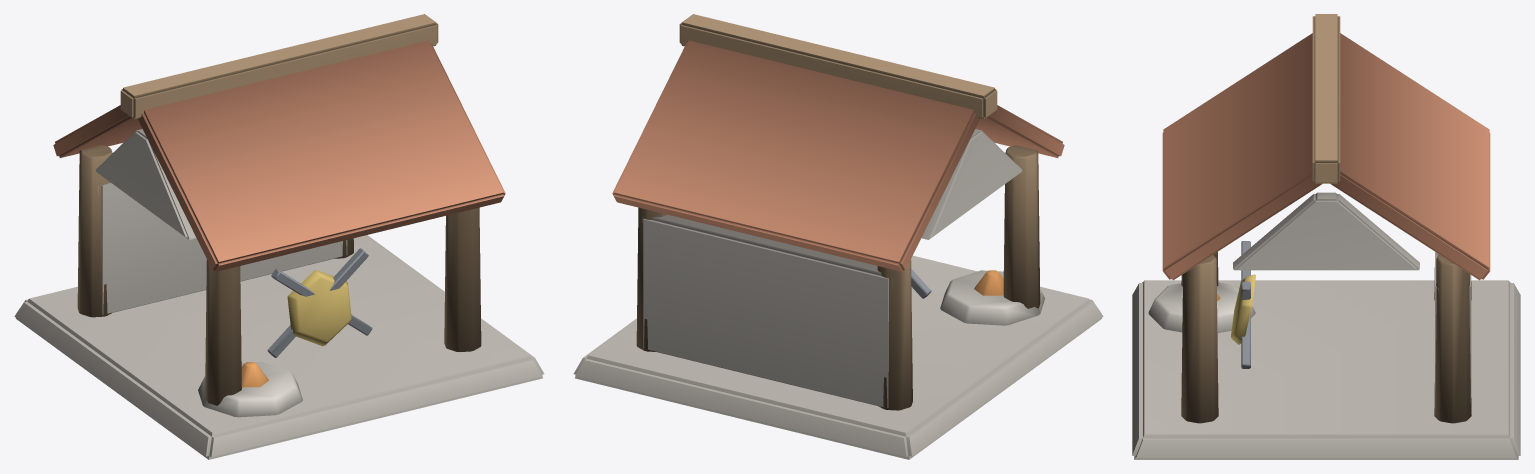
The model's file is study_barracks_camp_lod0.glb.
3 renders of one model, left to right at view 1: azimuth 30°, elevation 25°; view 2: azimuth 150°, elevation 25°; view 3: azimuth 270°, elevation 25°, orthographic.
Parts seen in each view (by area): view 1: study_barracks_camp; view 2: study_barracks_camp; view 3: study_barracks_camp.
Boxes of the visible parts, x1=… form: study_barracks_camp: x1=14, y1=14, x2=544, y2=459; study_barracks_camp: x1=573, y1=14, x2=1103, y2=459; study_barracks_camp: x1=1132, y1=14, x2=1520, y2=459.
Bounding box in the file's own units: 3.62 × 3 × 3.62.
